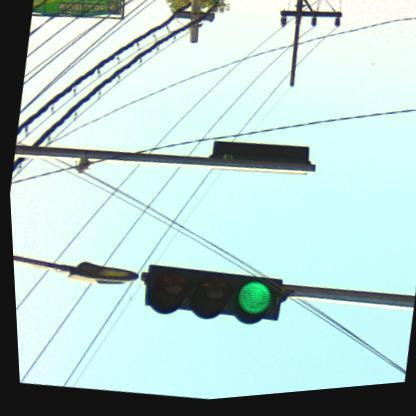green: (135, 254, 284, 340)
